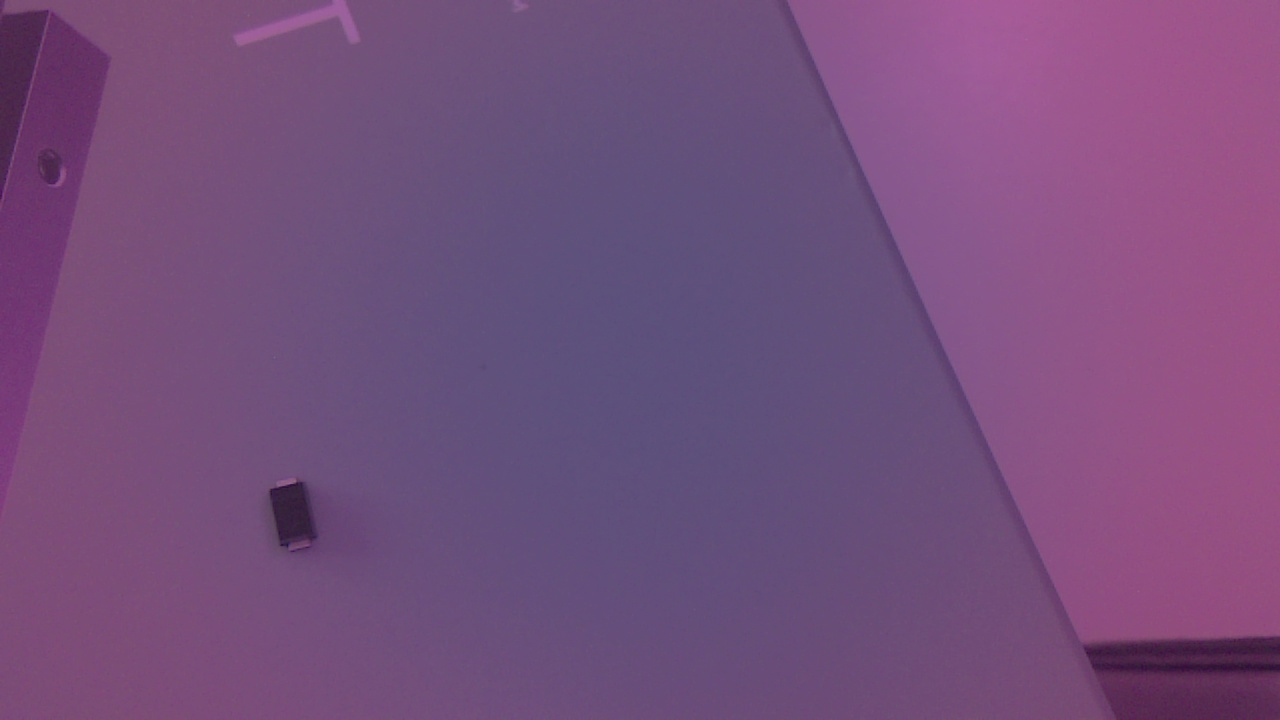Diode: (269, 477, 327, 563)
